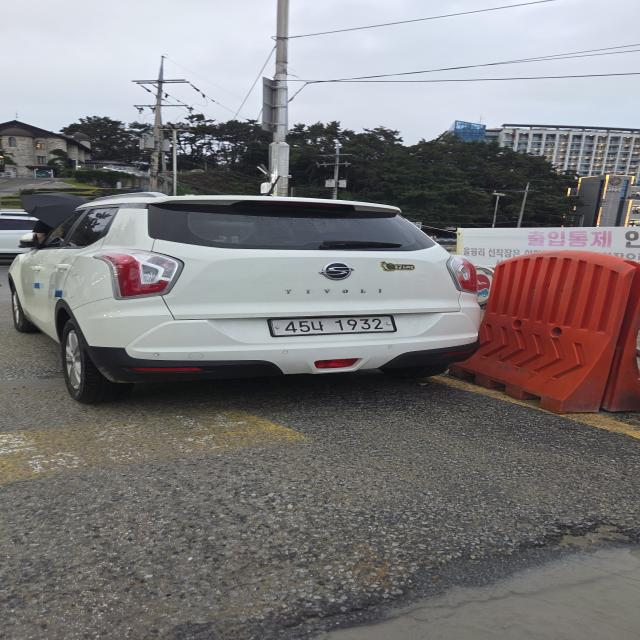car: (3, 181, 526, 407)
